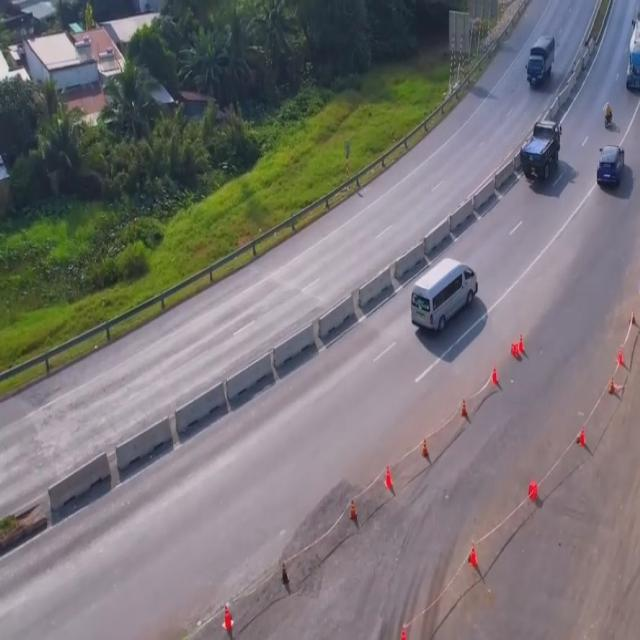car: (410, 258, 485, 337), (594, 145, 625, 192), (628, 2, 640, 94)
motorbike: (603, 103, 615, 130)
truck: (522, 117, 565, 189), (526, 37, 553, 92)
